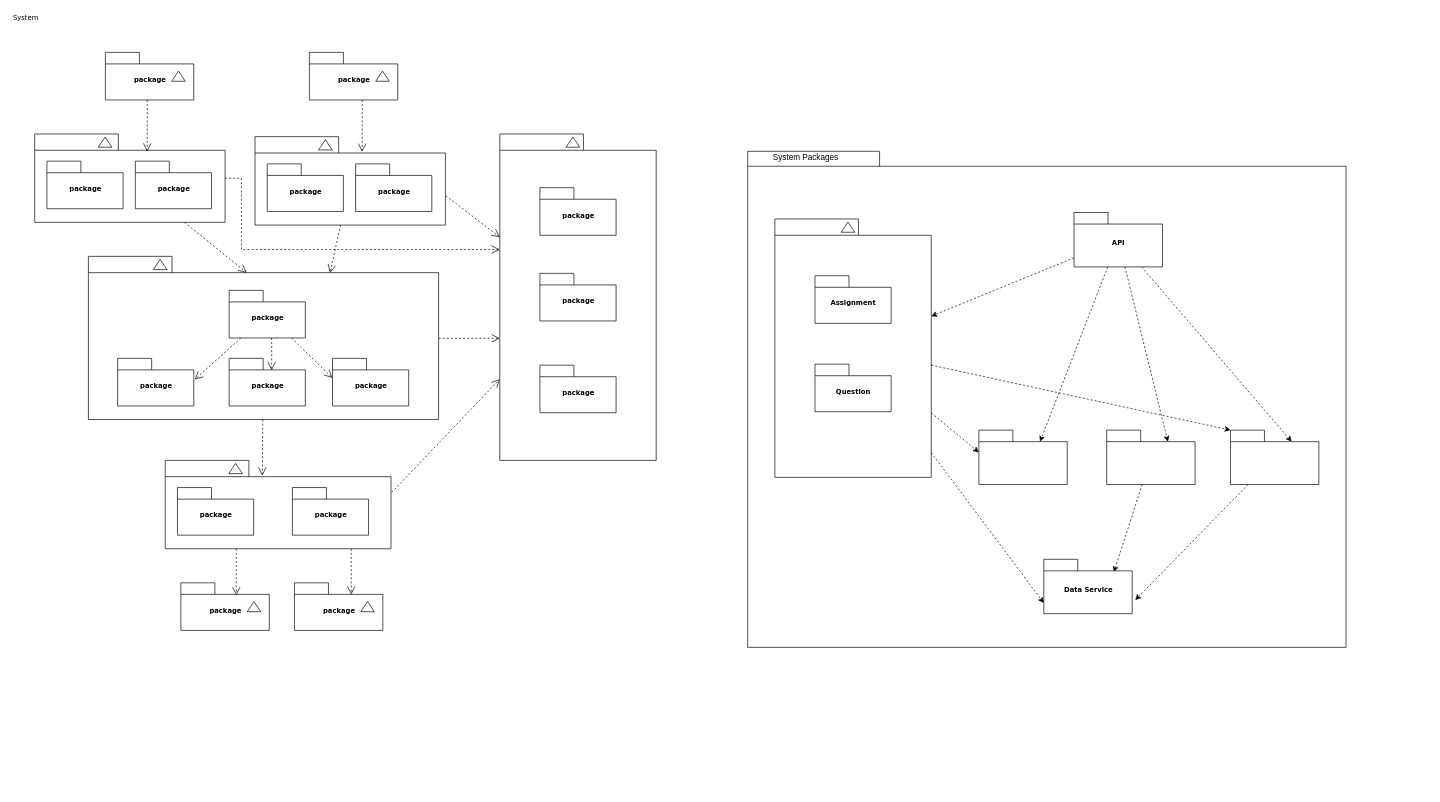
Some shapes in this 1440 by 802 pixel diagram are drawn without their labels. Here are the shapes that lost their labels. From the top down, the centre of each, then its label:
At point 1022,457: "Remote Code Execution".
At point 1150,457: "User Management".
At point 1274,457: "Reports".
